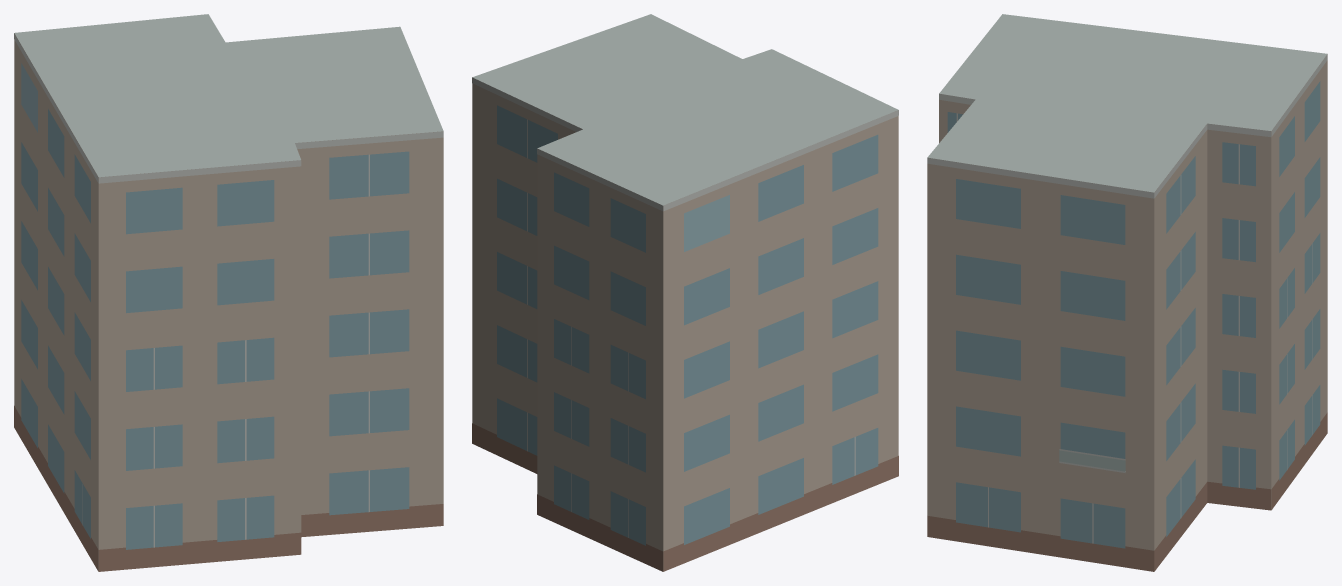
Rendered from survey-upis-32819473.glb.
3 renders of one model, left to right at view 1: azimuth 30°, elevation 25°; view 2: azimuth 150°, elevation 25°; view 3: azimuth 270°, elevation 25°, orthographic. The views are drawn at different scales.
Parts seen in each view (by area): view 1: survey-upis-32819473.tmp; view 2: survey-upis-32819473.tmp; view 3: survey-upis-32819473.tmp.
Boxes of the visible parts, bbox=[...] form: survey-upis-32819473.tmp: bbox=[14, 14, 443, 571]; survey-upis-32819473.tmp: bbox=[472, 14, 898, 571]; survey-upis-32819473.tmp: bbox=[927, 14, 1327, 571].
Size of the model in its own units: 15.41 by 15.25 by 14.6.
